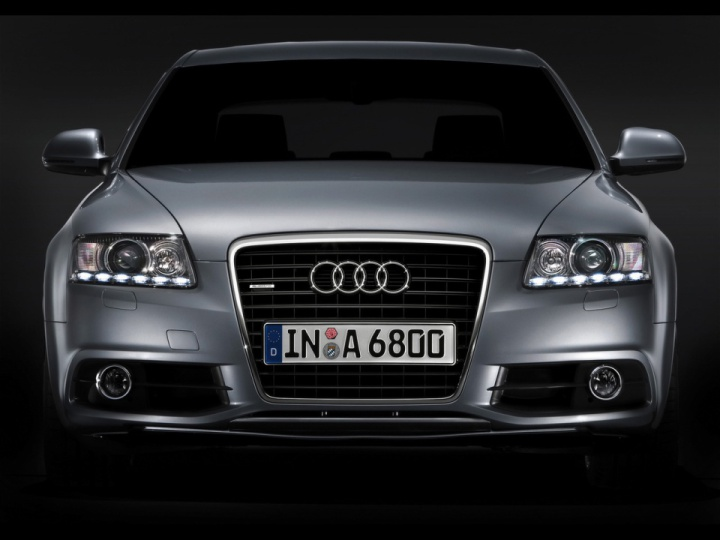audi: (301, 254, 415, 300)
